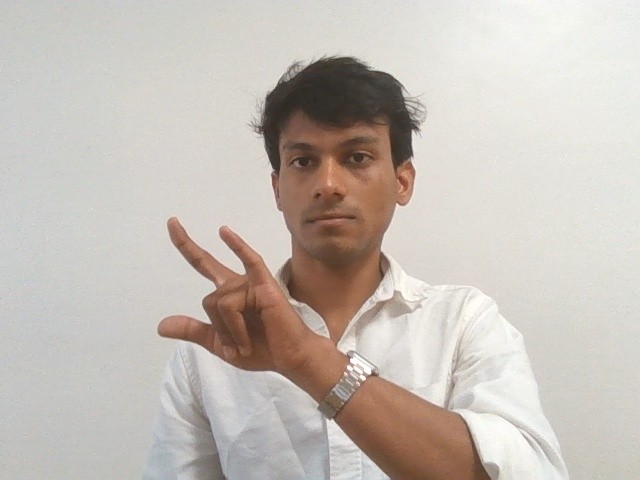ILoveYou: (139, 207, 295, 381)
